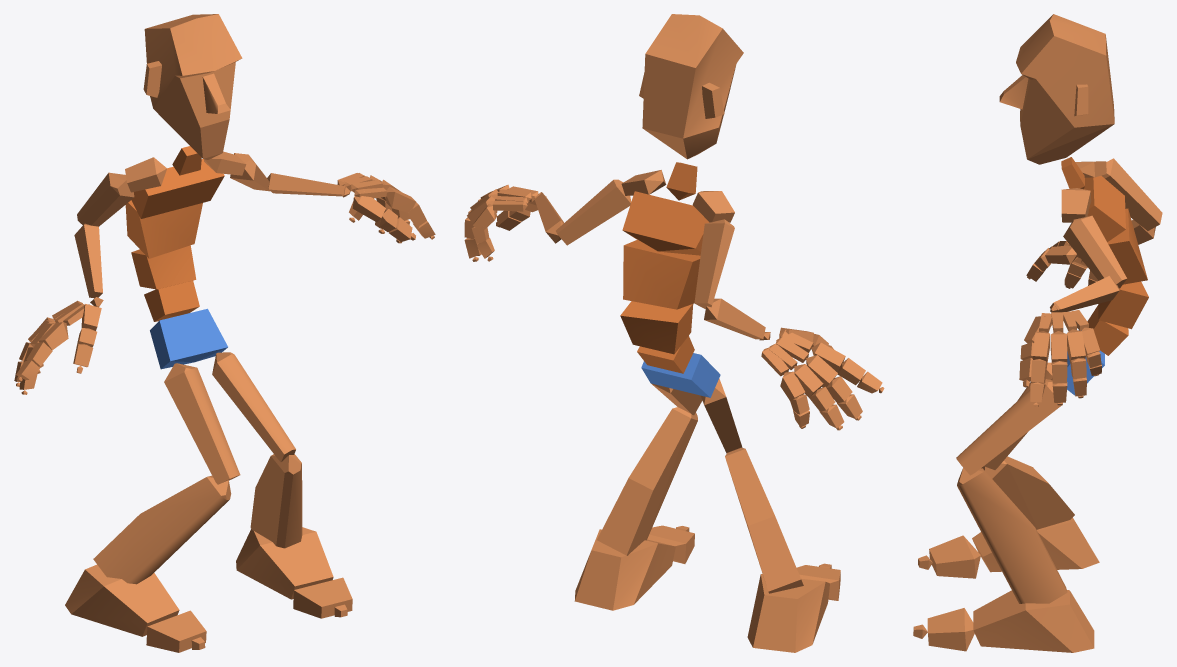
The model's file is prueba280.obj.
The picture shows the model from 3 angles, left to right: view 1: azimuth 30°, elevation 25°; view 2: azimuth 150°, elevation 25°; view 3: azimuth 270°, elevation 25°; orthographic projection. The views are drawn at different scales.
Visible parts, largest first — view 1: BOPED_Head, BOPED_R_leg, BOPED_R_foot, BOPED_R_foot01, BOPED_L_leg, BOPED_R_legup, Bone01, BOPED_L_legup, Bone04, Bone05, Bone03, BOPED_R_arm_upper (+9 smaller); view 2: BOPED_Head, BOPED_L_leg, BOPED_R_foot01, BOPED_R_foot, BOPED_R_leg, Bone04, Bone05, Bone03, BOPED_R_arm_upper, BOPED_L_arm_upper, Bone01, BOPED_R_legup (+9 smaller); view 3: BOPED_Head, BOPED_L_leg, BOPED_R_foot01, BOPED_L_legup, BOPED_R_leg, BOPED_R_foot, BOPED_L_arm_upper, Bone05, BOPED_R_arm_upper, BOPED_R_foot_toe01, BOPED_R_foot_toe04, Bone03 (+12 smaller).
Boxes of the visible parts, bbox=[...] form: BOPED_Head: bbox=[143, 14, 242, 159]; BOPED_R_leg: bbox=[93, 475, 231, 584]; BOPED_R_foot: bbox=[65, 564, 179, 636]; BOPED_R_foot01: bbox=[236, 527, 333, 599]; BOPED_L_leg: bbox=[250, 454, 302, 548]; BOPED_R_legup: bbox=[164, 363, 240, 484]; Bone01: bbox=[150, 308, 227, 369]; BOPED_L_legup: bbox=[212, 352, 295, 461]; Bone04: bbox=[125, 200, 202, 258]; Bone05: bbox=[131, 159, 224, 218]; Bone03: bbox=[131, 245, 196, 289]; BOPED_R_arm_upper: bbox=[77, 172, 134, 226]; BOPED_Head: bbox=[639, 14, 743, 159]; BOPED_L_leg: bbox=[597, 407, 697, 555]; BOPED_R_foot01: bbox=[574, 529, 675, 610]; BOPED_R_foot: bbox=[747, 574, 829, 652]; BOPED_R_leg: bbox=[725, 447, 803, 593]; Bone04: bbox=[623, 240, 700, 309]; Bone05: bbox=[622, 191, 709, 255]; Bone03: bbox=[620, 301, 693, 354]; BOPED_R_arm_upper: bbox=[694, 219, 734, 308]; BOPED_L_arm_upper: bbox=[556, 179, 631, 245]; Bone01: bbox=[641, 353, 720, 397]; BOPED_R_legup: bbox=[701, 378, 742, 453]; BOPED_Head: bbox=[999, 14, 1114, 164]; BOPED_L_leg: bbox=[957, 468, 1067, 603]; BOPED_R_foot01: bbox=[973, 590, 1094, 652]; BOPED_L_legup: bbox=[956, 379, 1062, 475]; BOPED_R_leg: bbox=[981, 456, 1074, 529]; BOPED_R_foot: bbox=[972, 517, 1099, 572]; BOPED_L_arm_upper: bbox=[1063, 215, 1126, 288]; Bone05: bbox=[1084, 175, 1125, 242]; BOPED_R_arm_upper: bbox=[1101, 158, 1162, 230]; BOPED_R_foot_toe01: bbox=[929, 535, 980, 578]; BOPED_R_foot_toe04: bbox=[927, 608, 974, 651]; Bone03: bbox=[1098, 281, 1148, 329].
Bounding box in the file's own units: 130 × 175 × 68.01.
